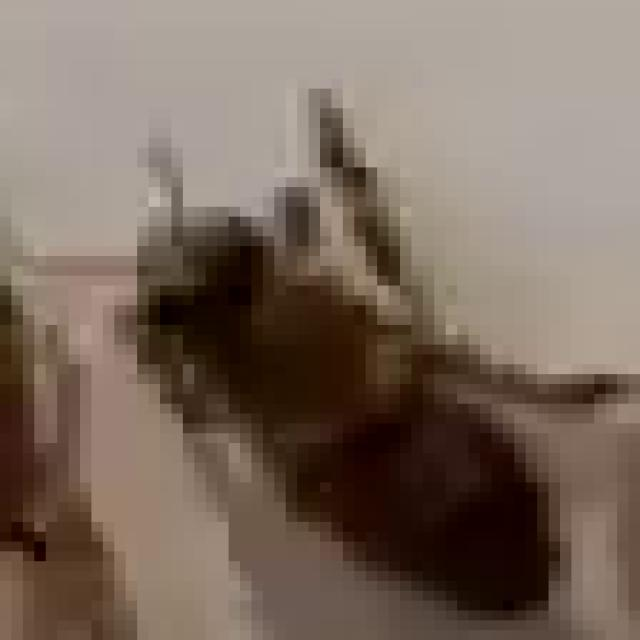honeybee: (128, 179, 561, 607)
